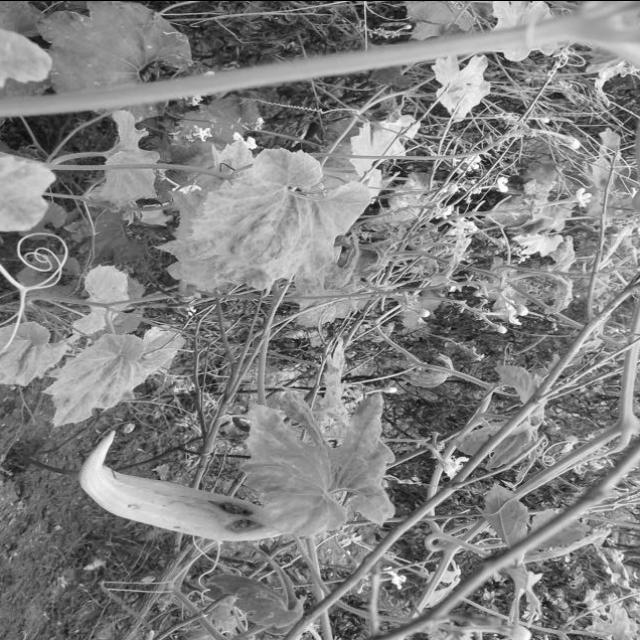Fruit fly: (202, 490, 272, 540), (163, 110, 233, 148)
